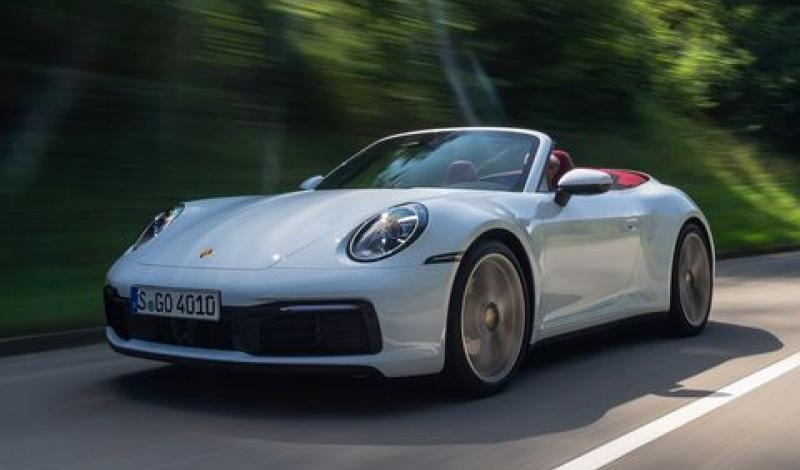porsche: (194, 244, 221, 261)
